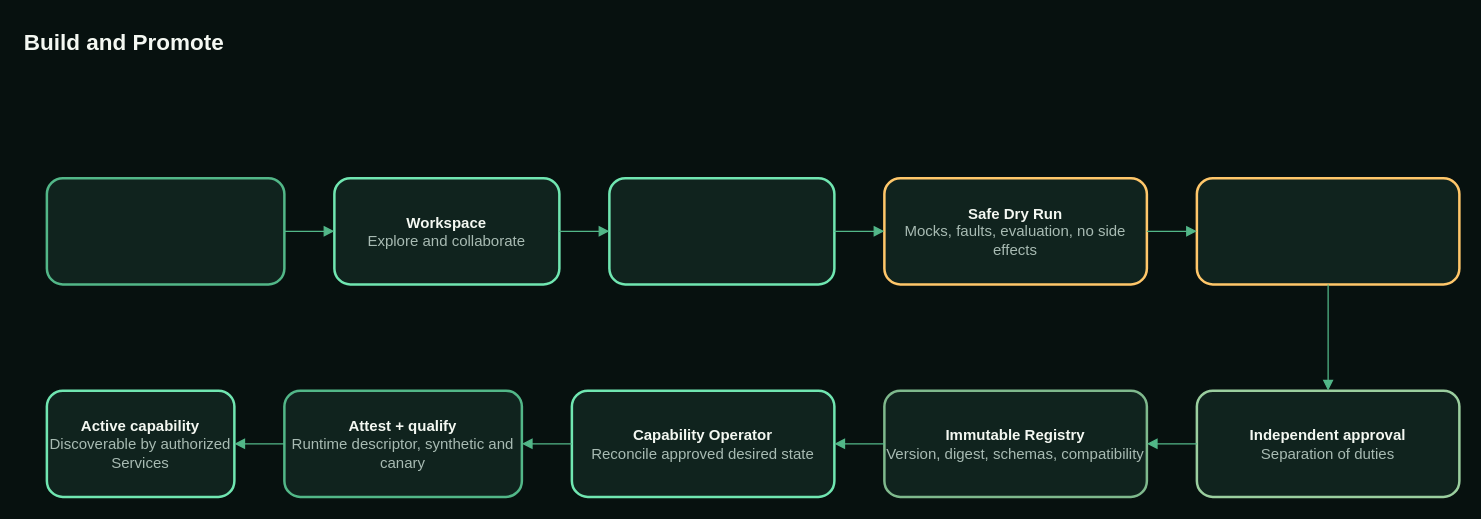
The diagram is 1481 pixels wide and 519 high, and some of its shapes have lost their labels. Each missing label, with the centre of its shape:
Approved inputs Intent, specs, APIs, MCP, code, data: (x=165, y=230)
Evidence review Quality, cost, policy, security, receipts: (x=1327, y=230)
Four Studios Create typed assets: (x=721, y=230)
